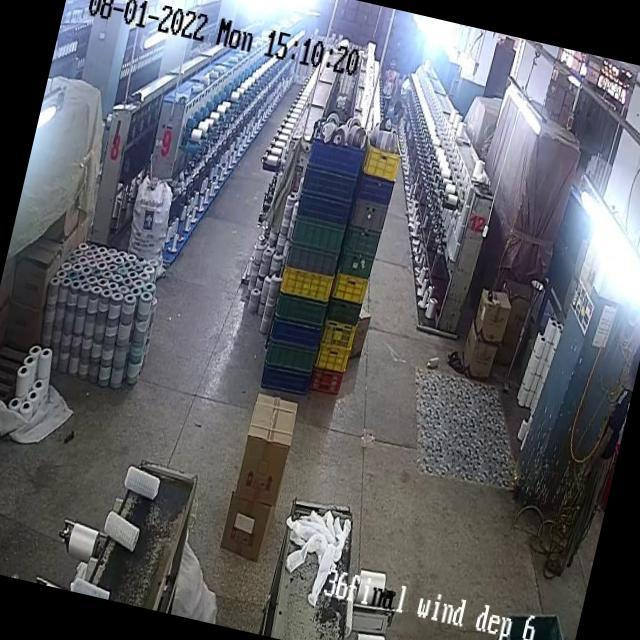person: (378, 57, 402, 114), (386, 98, 404, 129), (394, 104, 410, 132)
